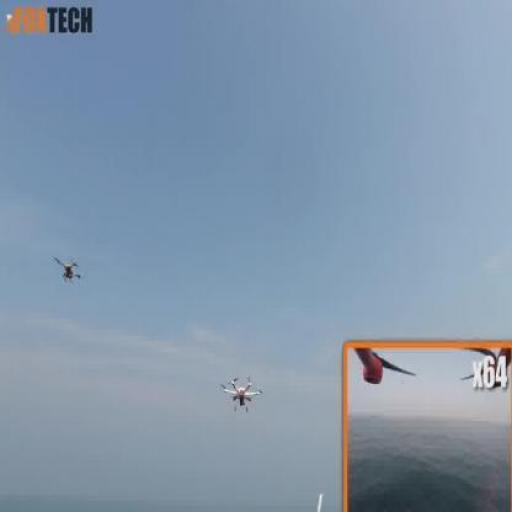drone: (219, 373, 262, 413), (52, 254, 86, 288)
